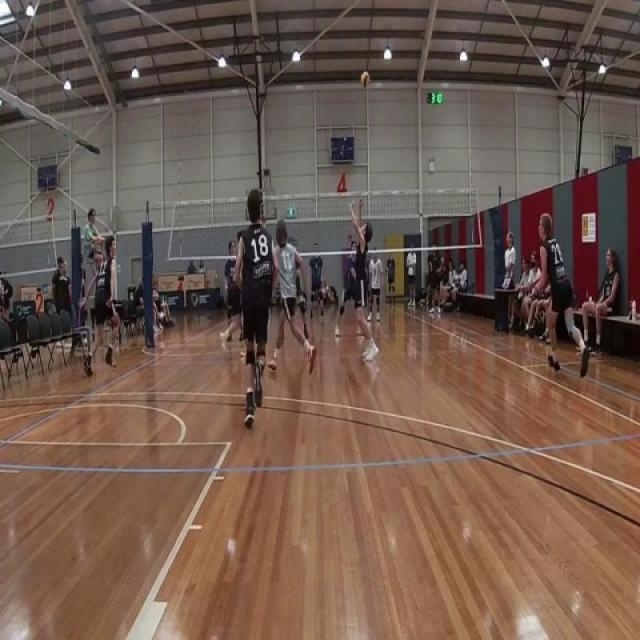volleyball: (360, 69, 370, 90)
